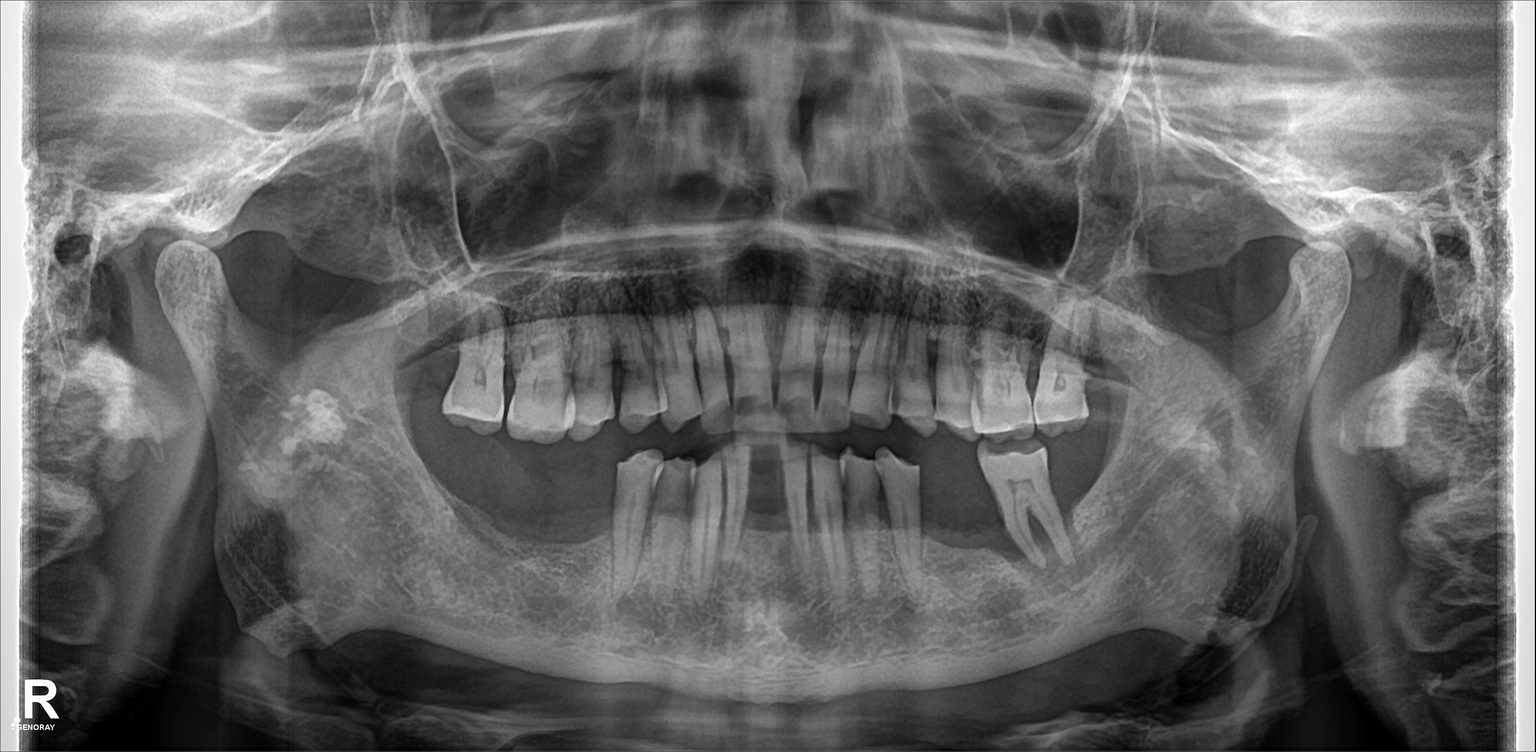Missing Tooth: (924, 469, 973, 584), (482, 452, 527, 576), (1043, 437, 1105, 527), (399, 307, 450, 405), (574, 484, 618, 596), (752, 462, 787, 567), (441, 441, 474, 544), (538, 465, 563, 585), (1088, 335, 1120, 416)
